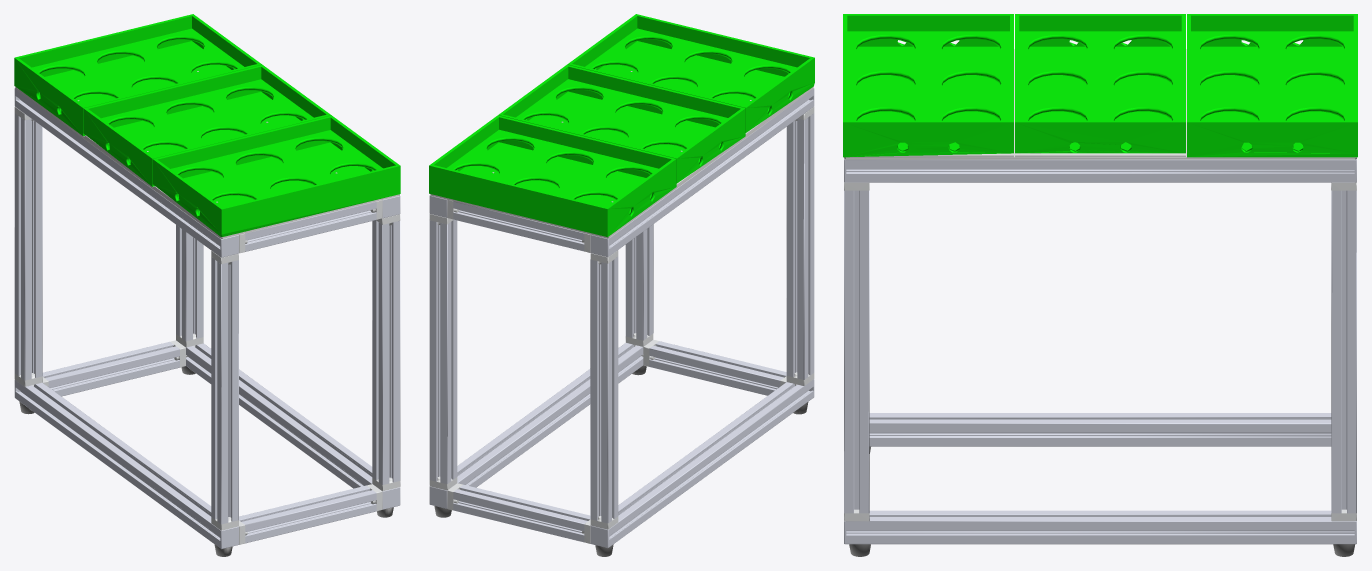
File: shooting_box.dae
3 views of the same model, side by side, from view 1: azimuth 30°, elevation 25°; view 2: azimuth 150°, elevation 25°; view 3: azimuth 270°, elevation 25° (orthographic). The views are drawn at different scales.
Parts seen in each view (by area): view 1: Untitled_003, Untitled_004, Untitled, Untitled_001, Untitled_005; view 2: Untitled_003, Untitled_004, Untitled, Untitled_001, Untitled_005; view 3: Untitled_004, Untitled_003, Untitled_001, Untitled.
Part boxes in pixels (bbox=[...]): Untitled_003: bbox=[14, 88, 400, 548]; Untitled_004: bbox=[14, 14, 400, 236]; Untitled: bbox=[14, 107, 400, 544]; Untitled_001: bbox=[15, 87, 399, 238]; Untitled_005: bbox=[19, 366, 393, 556]; Untitled_003: bbox=[429, 88, 814, 547]; Untitled_004: bbox=[429, 14, 814, 237]; Untitled: bbox=[429, 106, 814, 543]; Untitled_001: bbox=[430, 87, 813, 238]; Untitled_005: bbox=[434, 365, 808, 556]; Untitled_004: bbox=[843, 14, 1357, 157]; Untitled_003: bbox=[844, 159, 1356, 544]; Untitled_001: bbox=[844, 49, 1356, 159]; Untitled: bbox=[844, 182, 1356, 521].
Size of the model in its own units: 0.3 by 0.602 by 0.5625.
